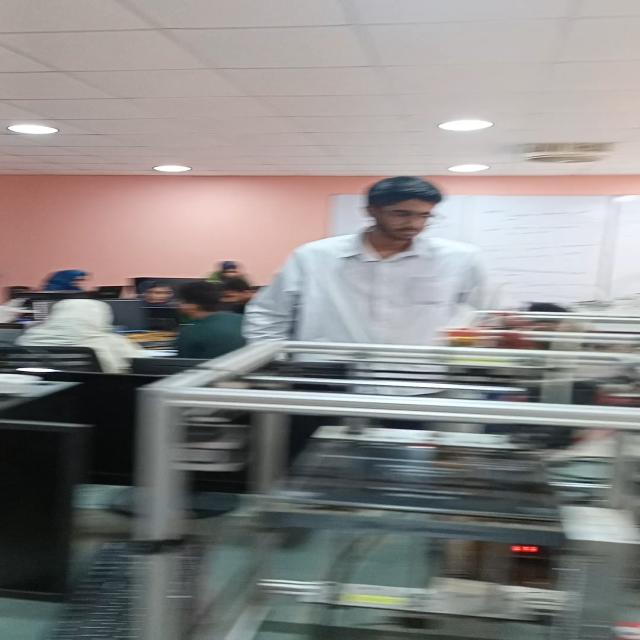dress: (242, 224, 509, 421)
glasses: (385, 206, 443, 229)
